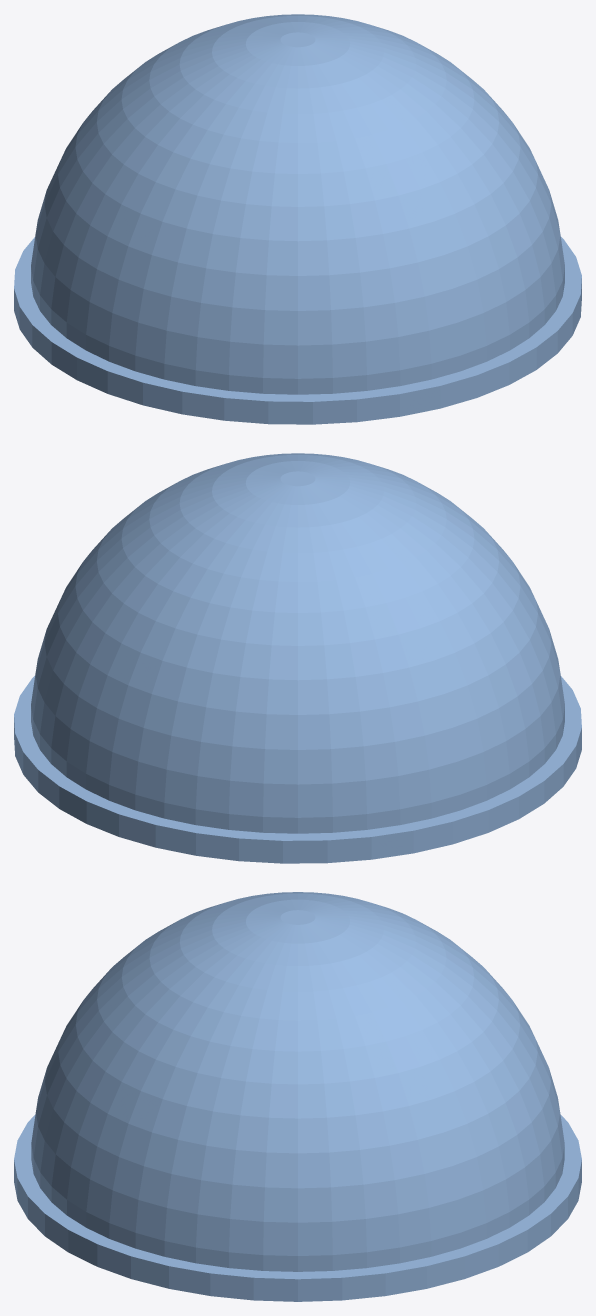
File: shell.glb
The picture shows the model from 3 angles, top to bottom: view 1: azimuth 30°, elevation 25°; view 2: azimuth 150°, elevation 25°; view 3: azimuth 270°, elevation 25°; orthographic projection.
Parts seen in each view (by area): view 1: shell; view 2: shell; view 3: shell.
Boxes of the visible parts, left/top/right/bottom form: shell: left=14, top=14, right=581, bottom=424; shell: left=14, top=453, right=581, bottom=863; shell: left=14, top=892, right=581, bottom=1301.
Bounding box in the file's own units: 68 × 34.93 × 68.
